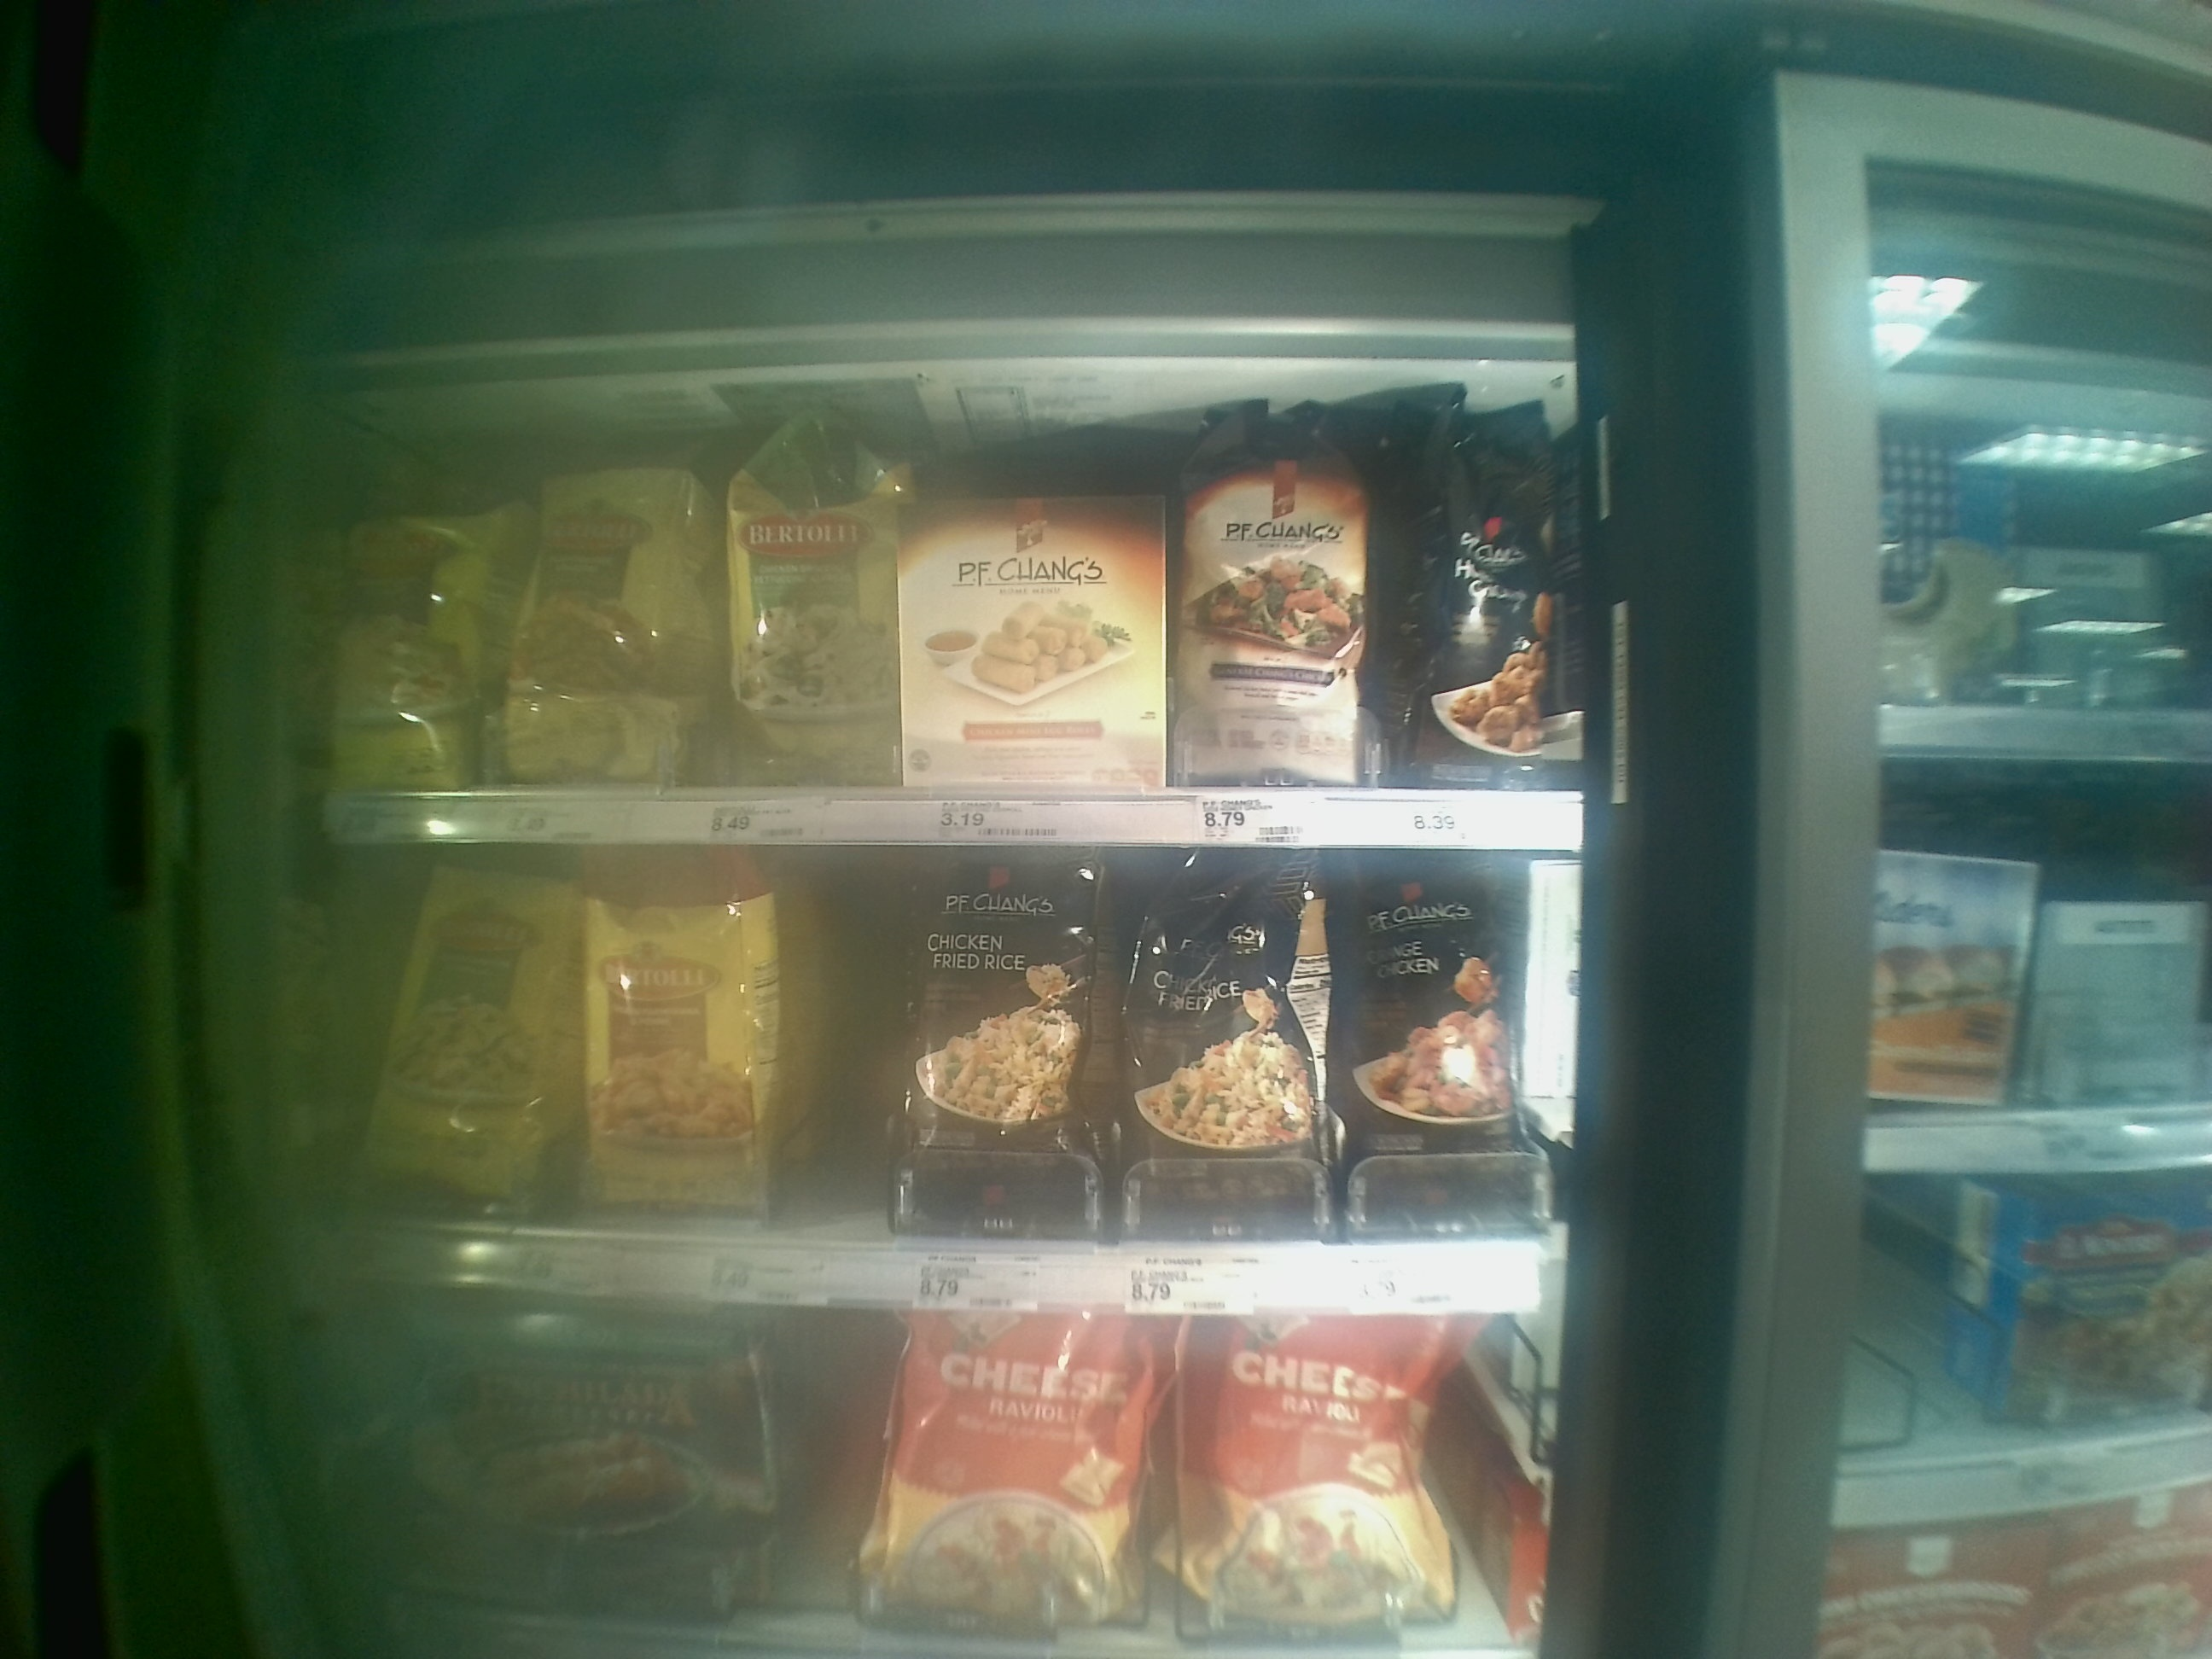frozen-food-shelf: (298, 840, 1543, 1312), (287, 411, 1583, 854)
